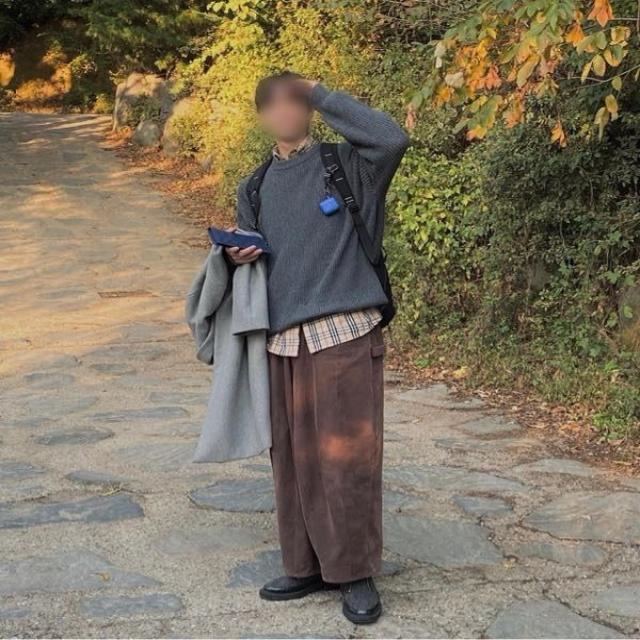cottonpants: (248, 312, 385, 578)
sweater: (217, 84, 414, 338)
